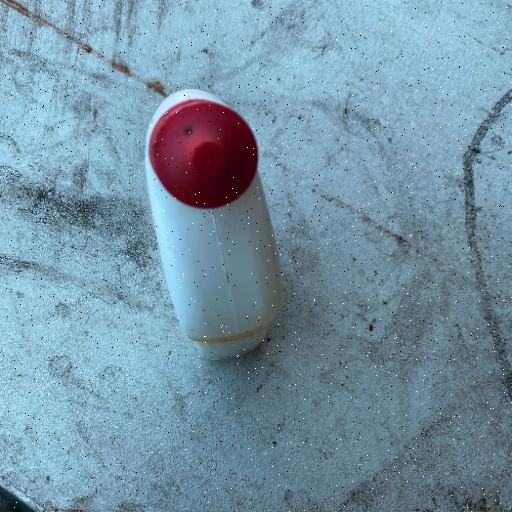Plastic: (142, 87, 286, 361)
